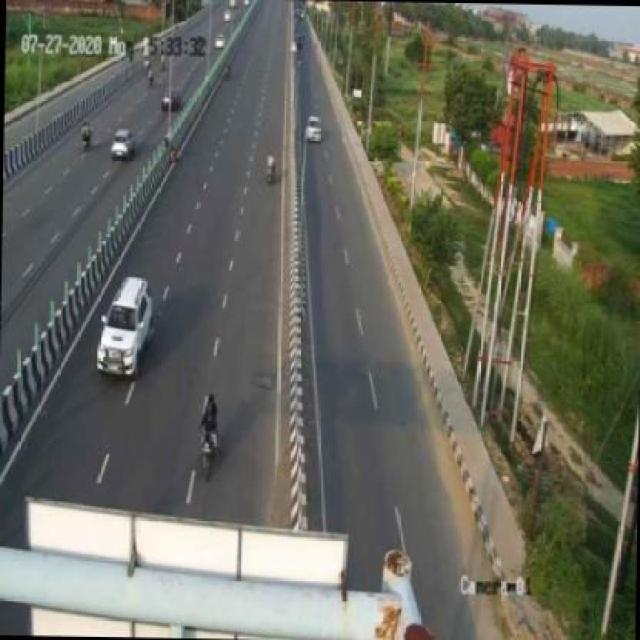car: (89, 268, 160, 382), (300, 109, 328, 148), (111, 129, 134, 160)
